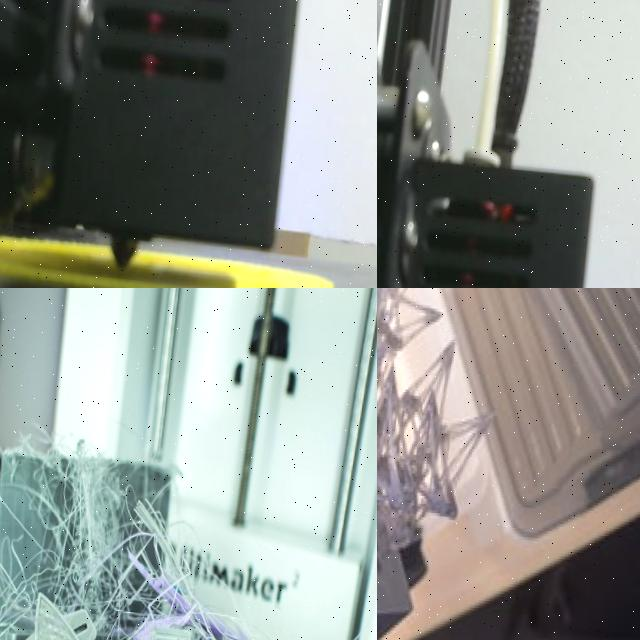spaghetti: (0, 437, 253, 640), (377, 288, 512, 600)
